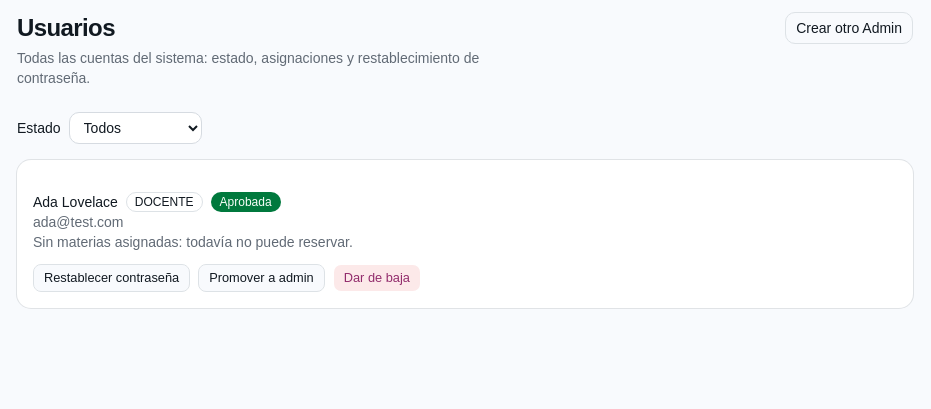
Test: UsuariosPage › consume la confirmación una sola vez aunque el servidor responda al instante
The width and height of the screenshot is (931, 409).
Click the button "Restablecer contraseña": {"x": 112, "y": 278} [33,264,190,292]
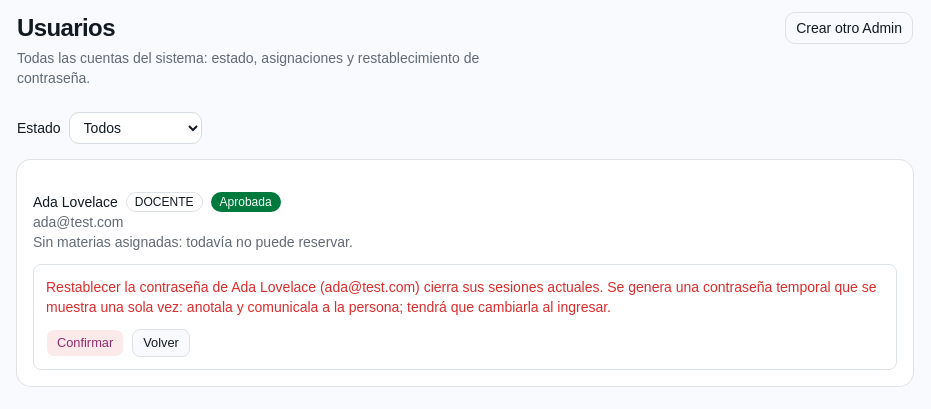
Double-click the button "Confirmar": {"x": 85, "y": 343} [46,329,124,357]
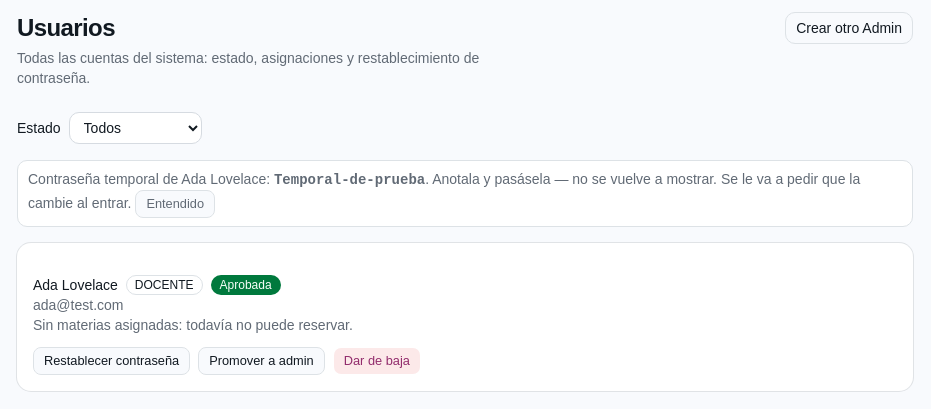
Check: the text "Temporal-de-prueba" is shown, box [274,172,425,188]
